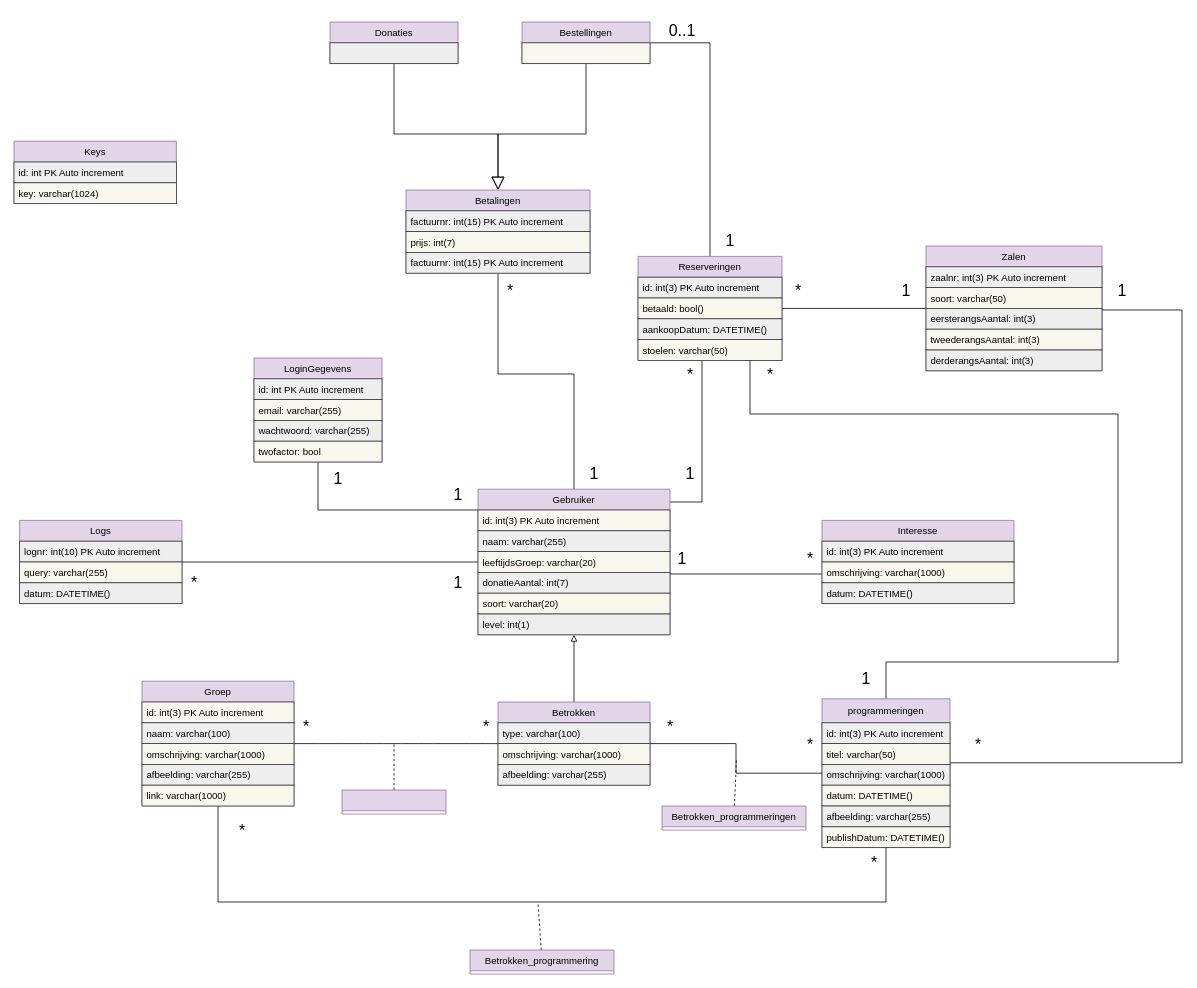
Some shapes in this 1197 by 988 pixel diagram are drawn without their labels. The shapes that lost their labels are listed below. From the top down, each one's centre as x and y in pixels, then its label:
At pixel 393 53: "message: varchar(1000)".
At pixel 585 53: "korting: int(3)".
At pixel 393 801: "Betrokken_groep".
